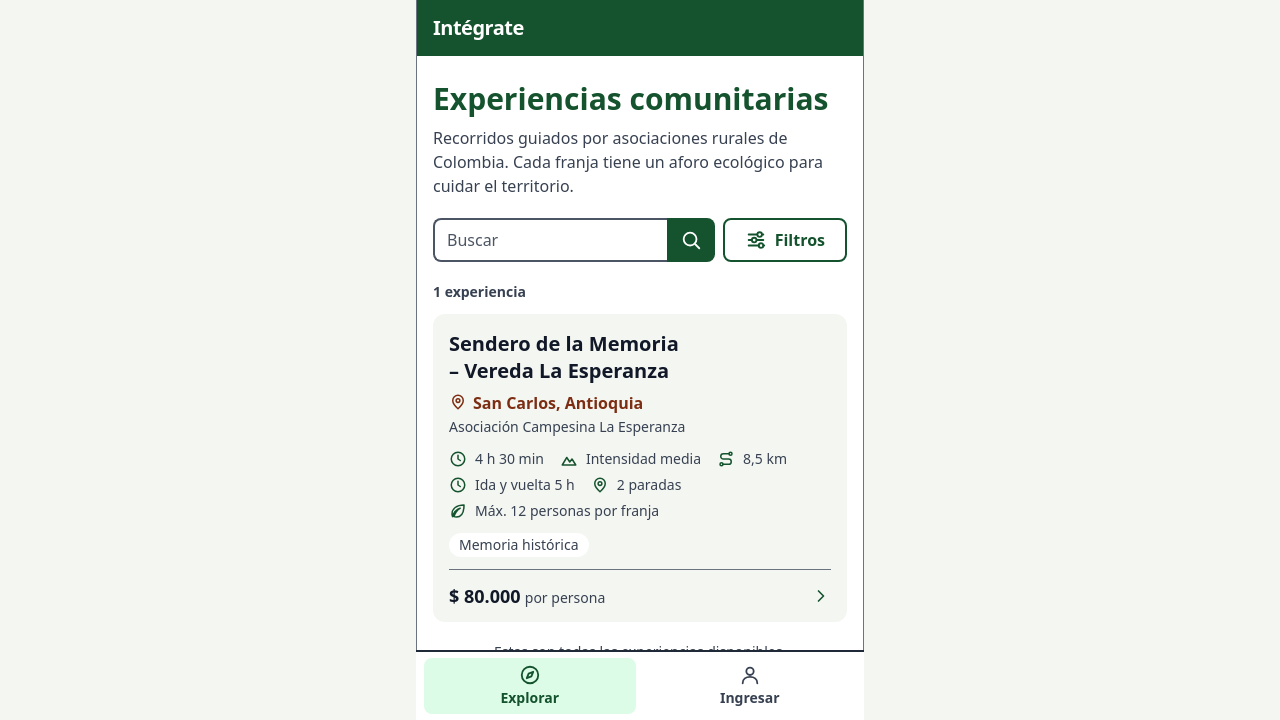
Test: catálogo (T-1.10a) › cierra el bottom-sheet sin aplicar el borrador
Click the button "Filtros" at coordinates (785, 240), box [723,218,847,262]
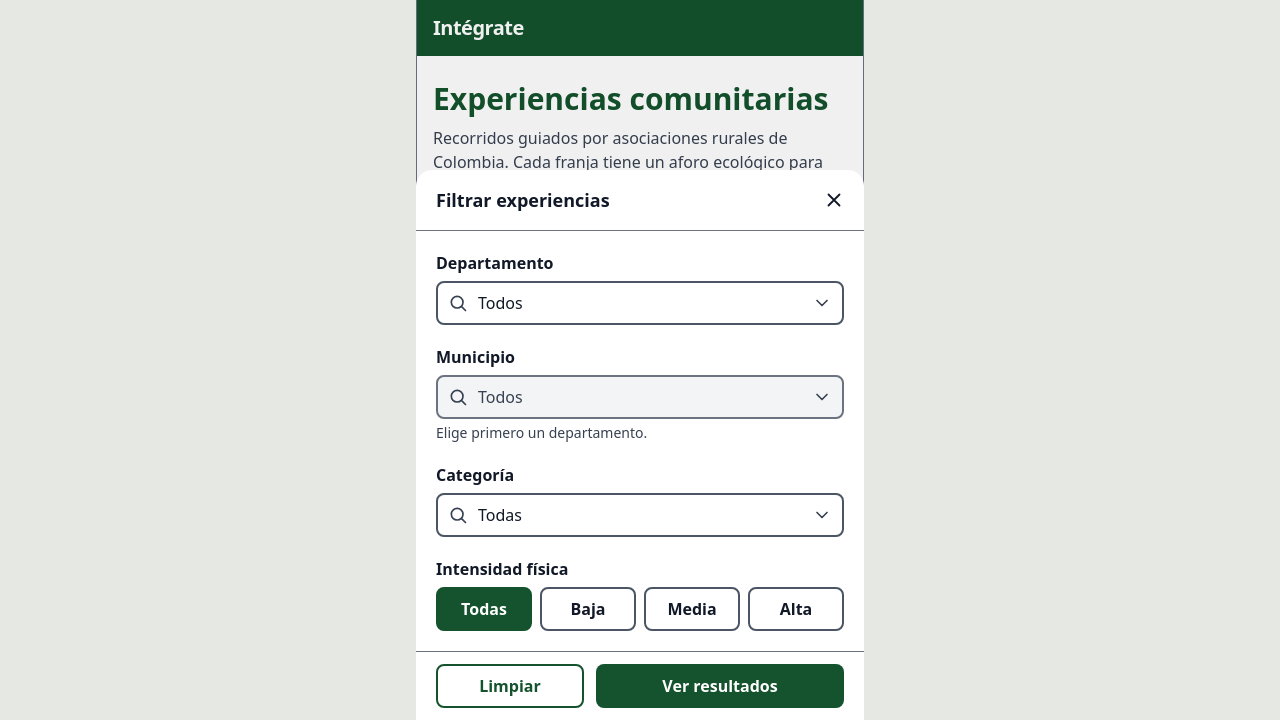
Click the radio button labelled "Baja" at coordinates (588, 609), box [540,587,636,631]
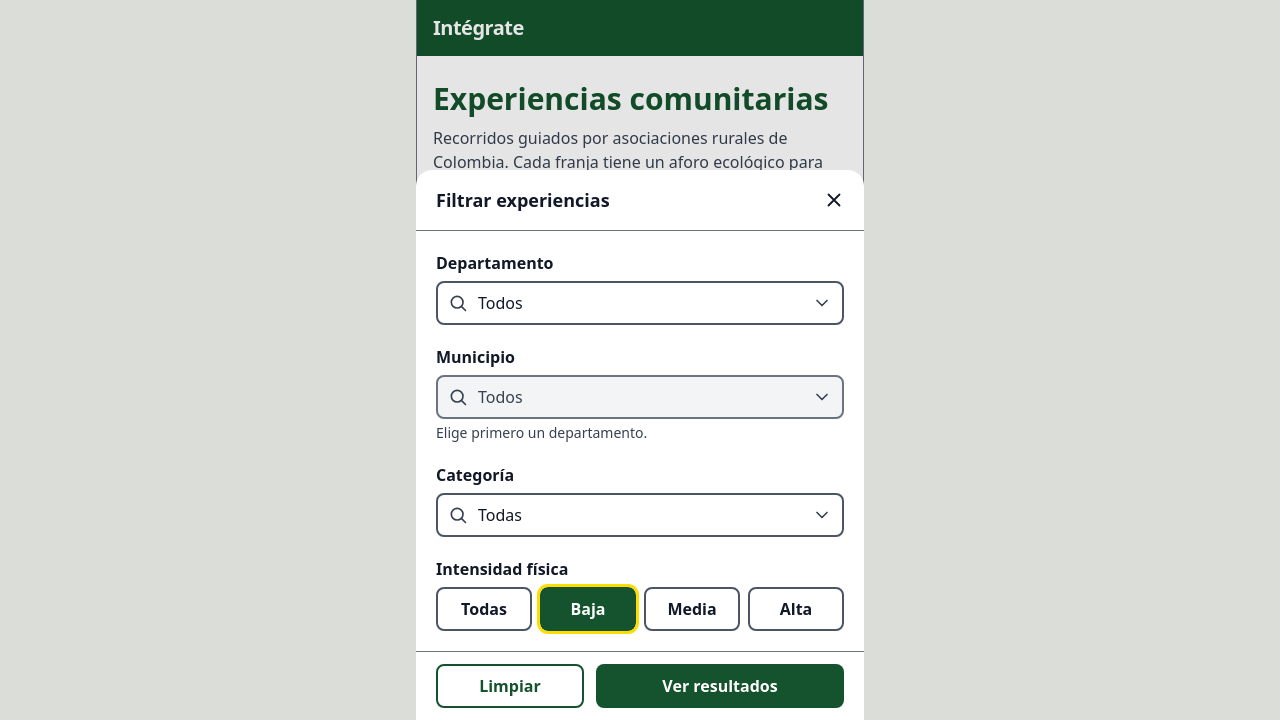
Click the button named "Cerrar" at coordinates (834, 200), box [812,178,856,222]
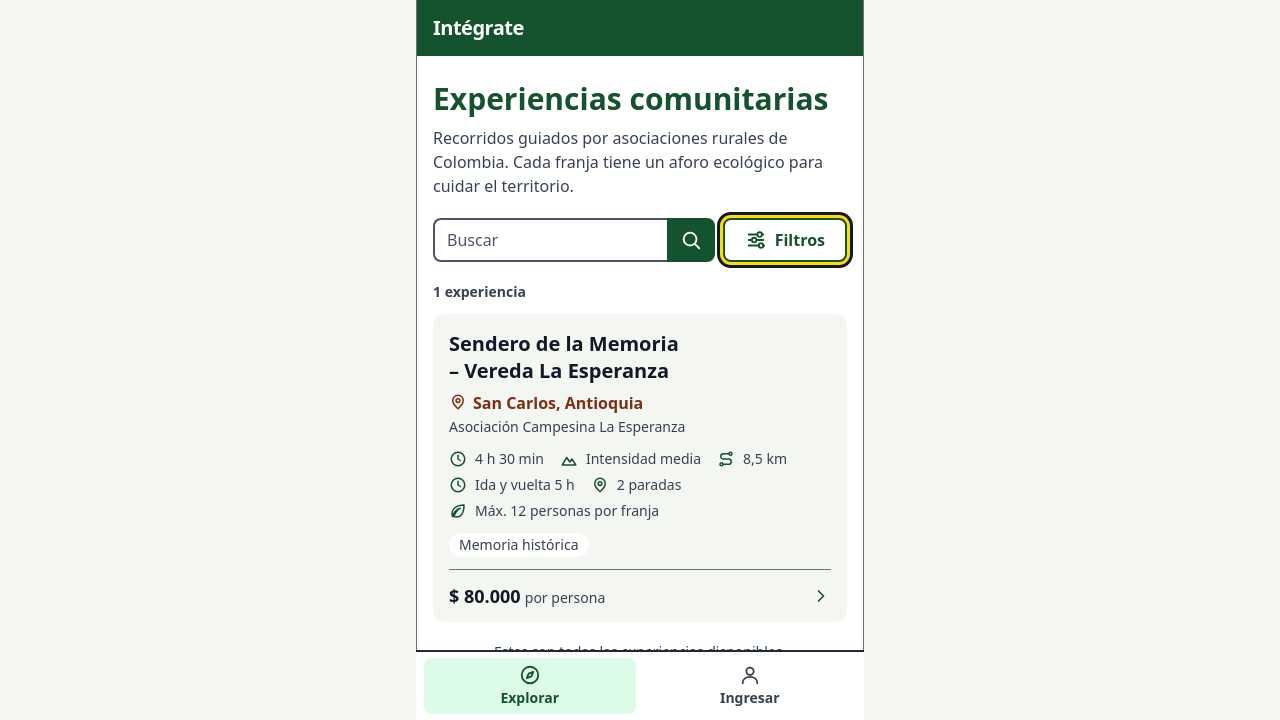
Expected: the dialog is gone
